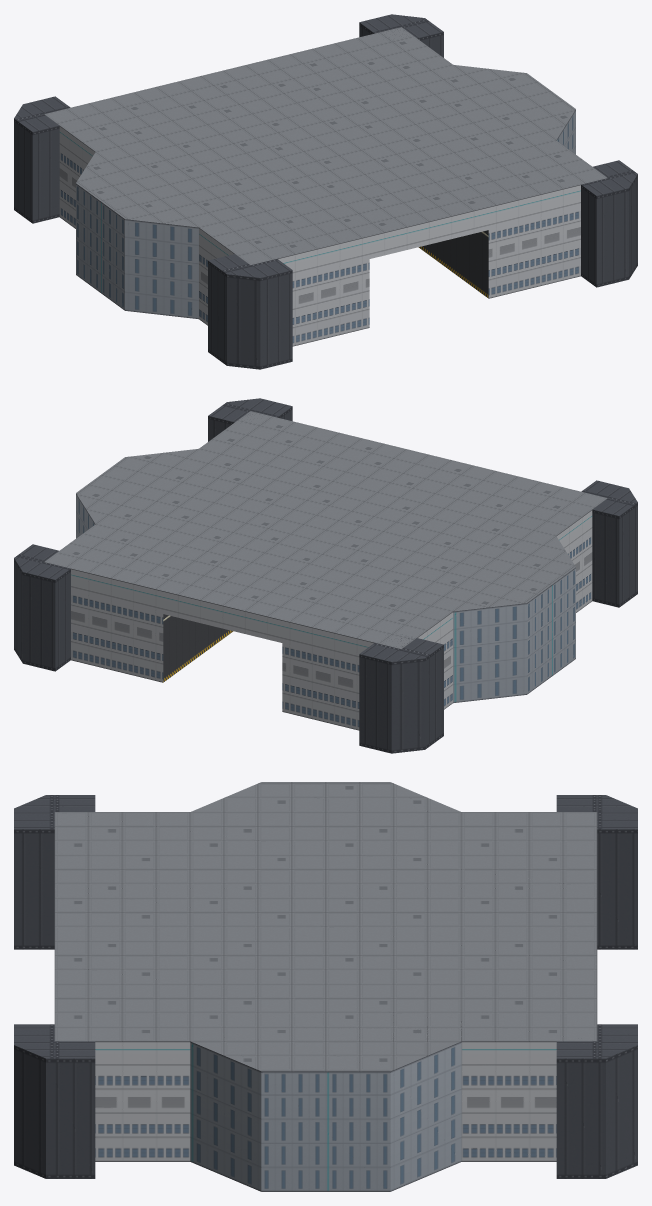
The model's file is BLD_BASE_W_GateI.fbx.
3 views of the same model, one above another, from view 1: azimuth 30°, elevation 25°; view 2: azimuth 150°, elevation 25°; view 3: azimuth 270°, elevation 25° (orthographic). The views are drawn at different scales.
Parts seen in each view (by area): view 1: BLD_BASE_W_GateI; view 2: BLD_BASE_W_GateI; view 3: BLD_BASE_W_GateI.
Part boxes in pixels (<box>): BLD_BASE_W_GateI: <box>14,14,637,369</box>; BLD_BASE_W_GateI: <box>14,398,637,753</box>; BLD_BASE_W_GateI: <box>14,782,637,1191</box>.
Bounding box in the file's own units: 126 × 24.5 × 115.
